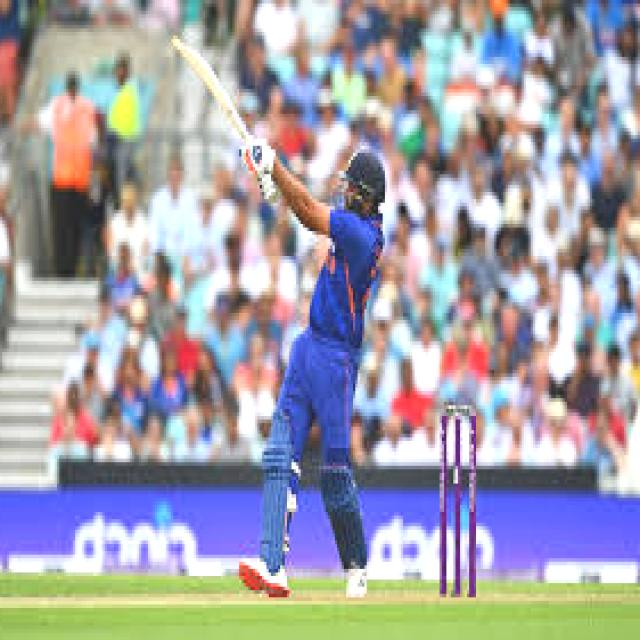toe: (167, 33, 191, 58)
